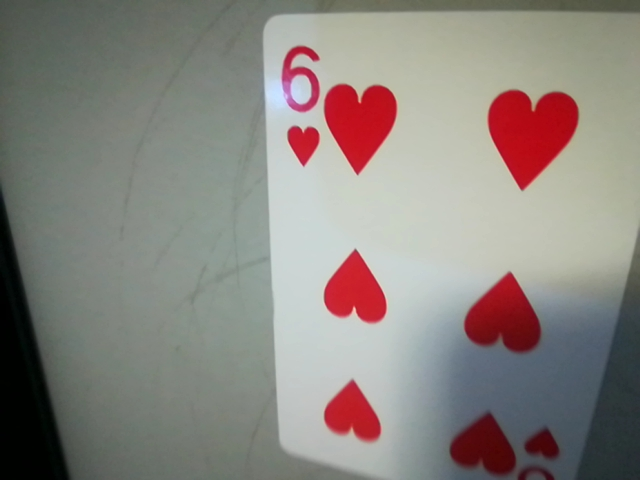hx 6: (265, 35, 326, 175)
